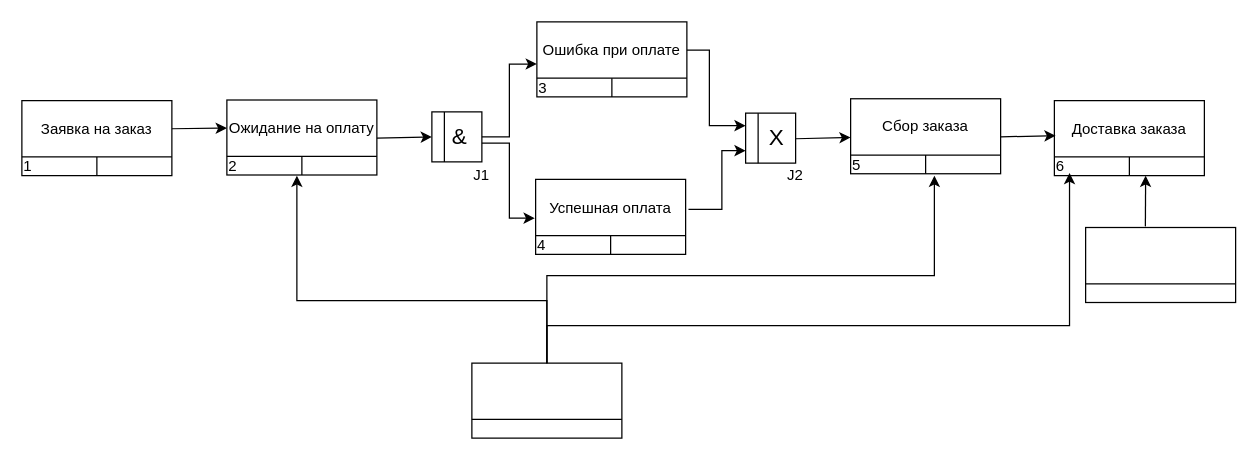
The diagram is 1259 pixels wide and 460 high, and some of its shapes have lost their labels. Here are the shapes that lost their labels. From the top down, the centre of each, then its label:
the point at 1160,264: Отзыв клиента
the point at 546,400: Сотрудники
